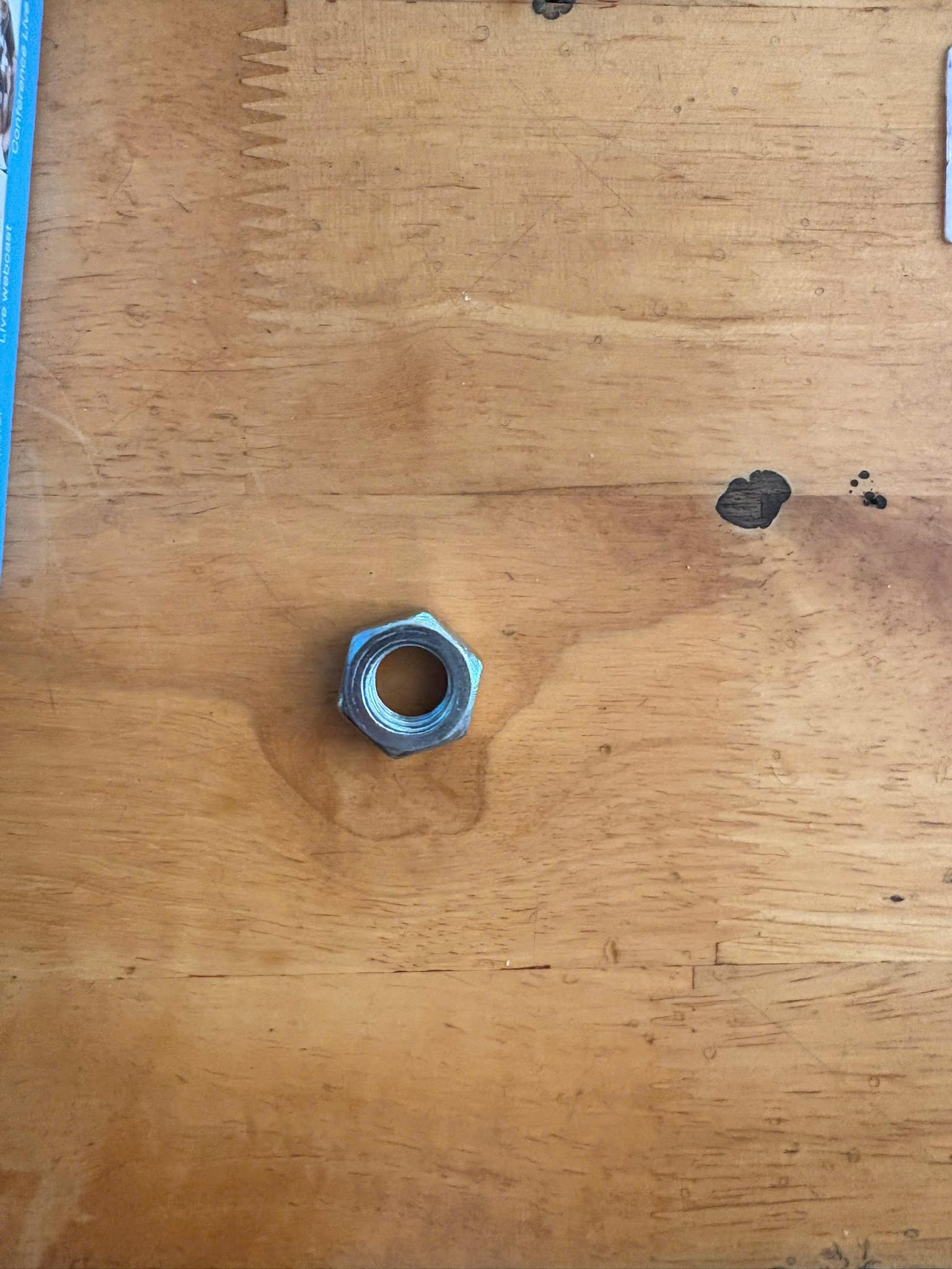nut: (295, 593, 500, 772)
